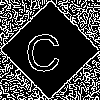C: (25, 25, 62, 72)
